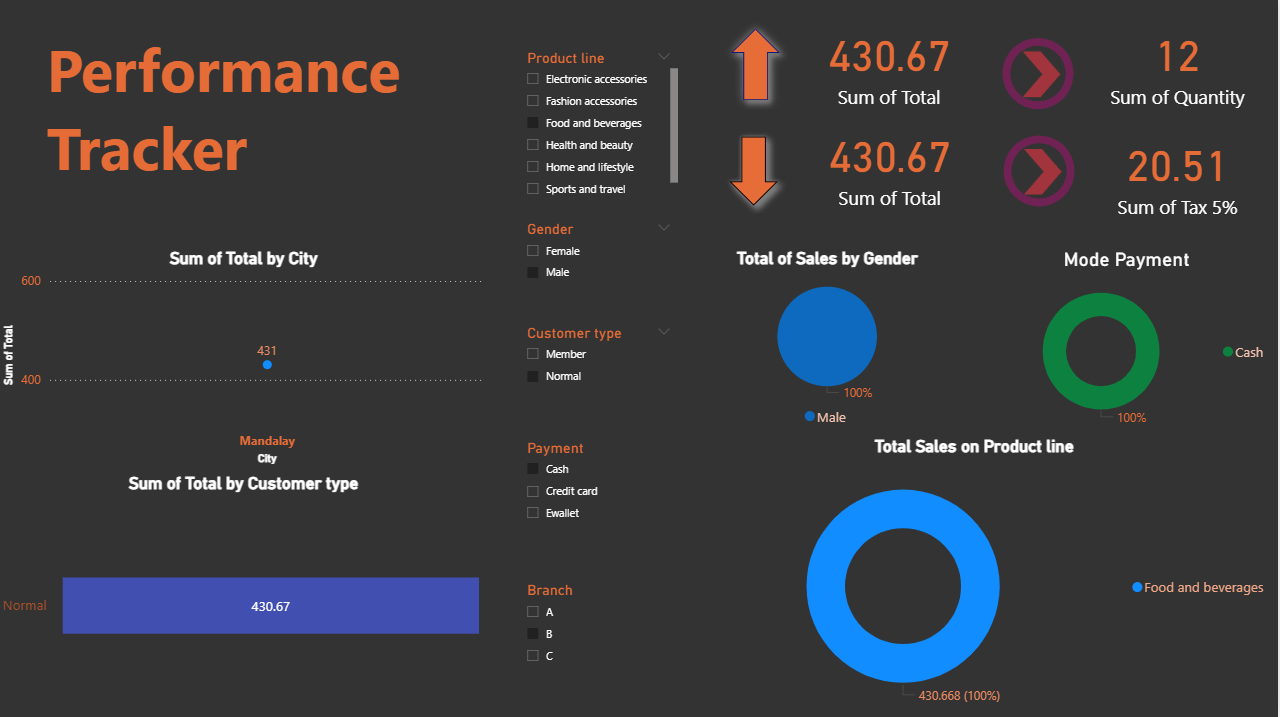

This screenshot's page, from the dashboard's own definition file:
{"tool":"powerbi","page":{"name":"Page 1","canvas":[1280,720],"ordinal":0},"visuals":[{"type":"card","fields":{"Values":["Sum(D6.Total)"]},"box":[792.5,112.5,198.8,110],"z":0},{"type":"card","fields":{"Values":["Sum(D6.Tax 5%)"]},"box":[1079.8,124.3,199.1,105],"z":1000},{"type":"card","fields":{"Values":["Sum(D6.Total)"]},"box":[791.2,8.8,200,115],"z":2000},{"type":"card","fields":{"Values":["Sum(D6.Quantity)"]},"box":[1079.8,8.4,199.1,115.8],"z":3000},{"type":"donutChart","title":"Mode Payment","fields":{"Category":["D6.Payment"],"Y":["Sum(D6.Total)"]},"box":[977.5,250,302.5,186.2],"z":4000},{"type":"donutChart","title":"Total Sales on Product line","fields":{"Category":["D6.Product line"],"Y":["Sum(D6.Total)"]},"box":[672.5,437.5,607.5,282.5],"z":5000},{"type":"pieChart","title":"Total of Sales by Gender","fields":{"Category":["D6.Gender"],"Y":["Sum(D6.Total)"]},"box":[693.8,250,271.2,187.5],"z":6000},{"type":"funnel","fields":{"Category":["D6.Customer type"],"Y":["Sum(D6.Total)"]},"box":[0,475,491.2,245],"z":7000},{"type":"lineChart","fields":{"Category":["D6.City","D6.Gender"],"Y":["Sum(D6.Total)"]},"box":[0,250,491.2,221.2],"z":8000},{"type":"shape","box":[723.8,21.2,67.5,90],"z":9000},{"type":"shape","box":[720,127.5,71.2,91.2],"z":10000},{"type":"donutChart","fields":{"Category":["D6.Gender"],"Y":["Sum(D6.Total)"]},"box":[977.2,26.5,127.9,98.9],"z":11000},{"type":"shape","box":[1022.5,52.5,41.2,47.5],"z":12000},{"type":"donutChart","fields":{"Category":["D6.Gender"],"Y":["Sum(D6.Total)"]},"box":[977.5,123.8,127.5,98.8],"z":13000},{"type":"shape","box":[1023.8,150,41.2,47.5],"z":14000},{"type":"textbox","box":[43.8,26.2,463.8,171.2],"z":14001},{"type":"slicer","fields":{"Values":["D6.Product line"]},"box":[516.2,46.2,168.8,155],"z":14002},{"type":"slicer","fields":{"Values":["D6.Customer type"]},"box":[516.2,321.2,168.8,98.8],"z":14003},{"type":"slicer","fields":{"Values":["D6.Payment"]},"box":[516.2,436.2,168.8,126.2],"z":14004},{"type":"slicer","fields":{"Values":["D6.Branch"]},"box":[516.2,578.8,168.8,118.8],"z":14005},{"type":"slicer","fields":{"Values":["D6.Gender"]},"box":[516.2,217.5,168.8,103.8],"z":14006}]}

Visuals, with their boxes in screenshot pixels (x1, y1, x2, y2), scaled from the page's 1280x720 canvas onto the 1280x717 screenshot:
card - Sum(D6.Total): bbox(792, 112, 991, 222)
card - Sum(D6.Tax 5%): bbox(1080, 124, 1279, 228)
card - Sum(D6.Total): bbox(791, 9, 991, 123)
card - Sum(D6.Quantity): bbox(1080, 8, 1279, 124)
"Mode Payment" donutChart: bbox(978, 249, 1279, 434)
"Total Sales on Product line" donutChart: bbox(672, 436, 1279, 716)
"Total of Sales by Gender" pieChart: bbox(694, 249, 965, 436)
funnel - D6.Customer type x Sum(D6.Total): bbox(0, 473, 491, 716)
lineChart - D6.City x D6.Gender: bbox(0, 249, 491, 469)
shape: bbox(724, 21, 791, 111)
shape: bbox(720, 127, 791, 218)
donutChart - D6.Gender x Sum(D6.Total): bbox(977, 26, 1105, 125)
shape: bbox(1022, 52, 1064, 100)
donutChart - D6.Gender x Sum(D6.Total): bbox(978, 123, 1105, 222)
shape: bbox(1024, 149, 1065, 197)
textbox: bbox(44, 26, 508, 197)
slicer - D6.Product line: bbox(516, 46, 685, 200)
slicer - D6.Customer type: bbox(516, 320, 685, 418)
slicer - D6.Payment: bbox(516, 434, 685, 560)
slicer - D6.Branch: bbox(516, 576, 685, 695)
slicer - D6.Gender: bbox(516, 217, 685, 320)
